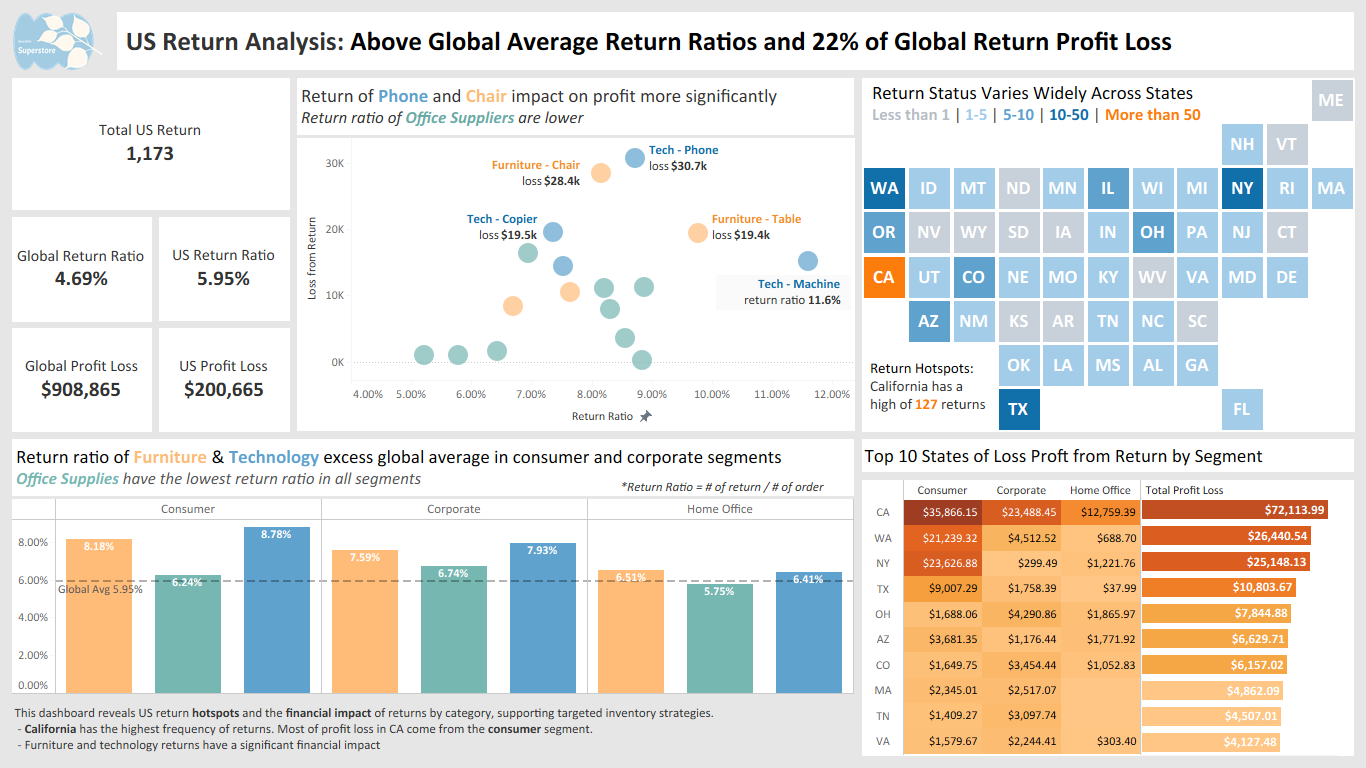

What the dashboard file says about the page in this screenshot:
{"tool":"tableau","page":{"name":"US Returen Dashboard","canvas":[1366,768],"ordinal":5},"visuals":[{"type":"image","param":"Image/superstore-high-resolution-logo-transparent.png","box":[8,8,105,66]},{"type":"title","box":[113,8,1245,66]},{"type":"worksheet","title":"#Return","mark":"Automatic","box":[8,74,284.9,138.6]},{"type":"worksheet","title":"Profit Return Ratio Scatter Plot","mark":"Circle","rows":["Calculation_5948692215631777798"],"cols":["Calculation_5948692215625502725"],"box":[293,74,565,361]},{"type":"worksheet","title":"US Return by State","mark":"Square","rows":["Row"],"cols":["Column"],"box":[858,74,500,361]},{"type":"worksheet","title":"Global Return Ratio","mark":"Automatic","box":[8,212.6,147,111.7]},{"type":"worksheet","title":"US Return Ratio","mark":"Automatic","box":[155,212.6,138,111.1]},{"type":"worksheet","title":"US Profit Loss","mark":"Automatic","box":[155,323.8,138,111.2]},{"type":"worksheet","title":"Global Profit Loss","mark":"Automatic","box":[8,324.3,147,110.7]},{"type":"worksheet","title":"Return Ratio by Segment","mark":"Automatic","rows":["Calculation_5948692215625502725"],"cols":["Segment","Category"],"box":[8,435,850,263]},{"type":"text","box":[858,435,500,41]},{"type":"text","box":[618,467,210,40]},{"type":"text","box":[1143,471,108,38]},{"type":"blank","box":[858,476,500,284]},{"type":"worksheet","title":"Top 10 Return State Table (2)","mark":"Square","rows":["State","state_code"],"cols":["Segment"],"box":[863,480,278,275]},{"type":"legend","title":"Return Ratio by Segment","param":"[federated.1h3h0et0gxsiux1d21vw91ftqfph].[none:Category:nk]","box":[635,485,142,76]},{"type":"worksheet","title":"Top 10 State Loss Bar","mark":"Automatic","rows":["State"],"cols":["Calculation_5948692215631777798"],"box":[1141,497,196,258]},{"type":"text","box":[8,698,850,62]}]}

Visuals, with their boxes in screenshot pixels (x1, y1, x2, y2), scaled from the page's 1366x768 canvas onto the 1366x768 screenshot:
image: pyautogui.locateOnScreen(8, 8, 113, 74)
title: pyautogui.locateOnScreen(113, 8, 1358, 74)
"#Return" worksheet: pyautogui.locateOnScreen(8, 74, 293, 213)
"Profit Return Ratio Scatter Plot" worksheet (Circle marks): pyautogui.locateOnScreen(293, 74, 858, 435)
"US Return by State" worksheet (Square marks): pyautogui.locateOnScreen(858, 74, 1358, 435)
"Global Return Ratio" worksheet: pyautogui.locateOnScreen(8, 213, 155, 324)
"US Return Ratio" worksheet: pyautogui.locateOnScreen(155, 213, 293, 324)
"US Profit Loss" worksheet: pyautogui.locateOnScreen(155, 324, 293, 435)
"Global Profit Loss" worksheet: pyautogui.locateOnScreen(8, 324, 155, 435)
"Return Ratio by Segment" worksheet: pyautogui.locateOnScreen(8, 435, 858, 698)
text: pyautogui.locateOnScreen(858, 435, 1358, 476)
text: pyautogui.locateOnScreen(618, 467, 828, 507)
text: pyautogui.locateOnScreen(1143, 471, 1251, 509)
blank: pyautogui.locateOnScreen(858, 476, 1358, 760)
"Top 10 Return State Table (2)" worksheet (Square marks): pyautogui.locateOnScreen(863, 480, 1141, 755)
"Return Ratio by Segment" legend: pyautogui.locateOnScreen(635, 485, 777, 561)
"Top 10 State Loss Bar" worksheet: pyautogui.locateOnScreen(1141, 497, 1337, 755)
text: pyautogui.locateOnScreen(8, 698, 858, 760)
